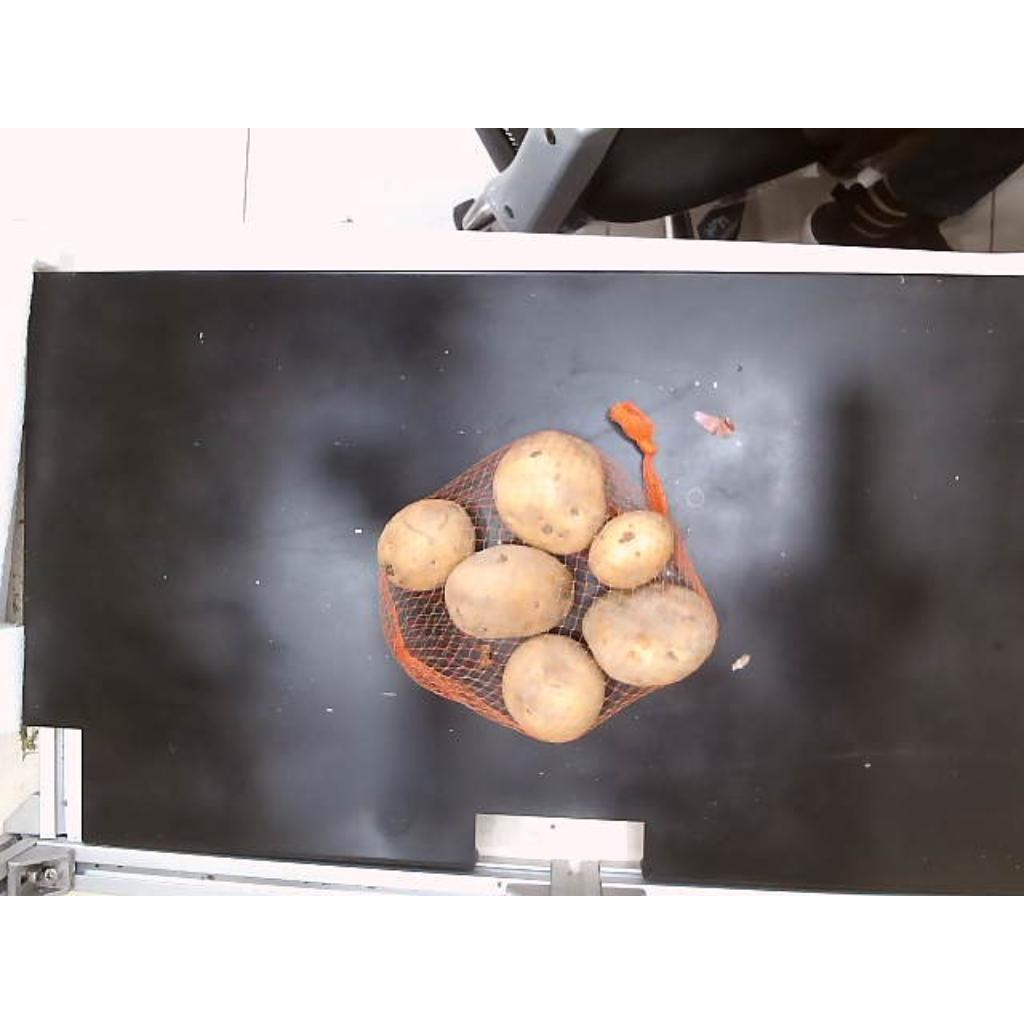potato: (582, 582, 718, 686), (494, 430, 606, 554), (444, 544, 570, 638), (502, 634, 604, 741), (378, 500, 476, 590), (588, 510, 674, 587)
